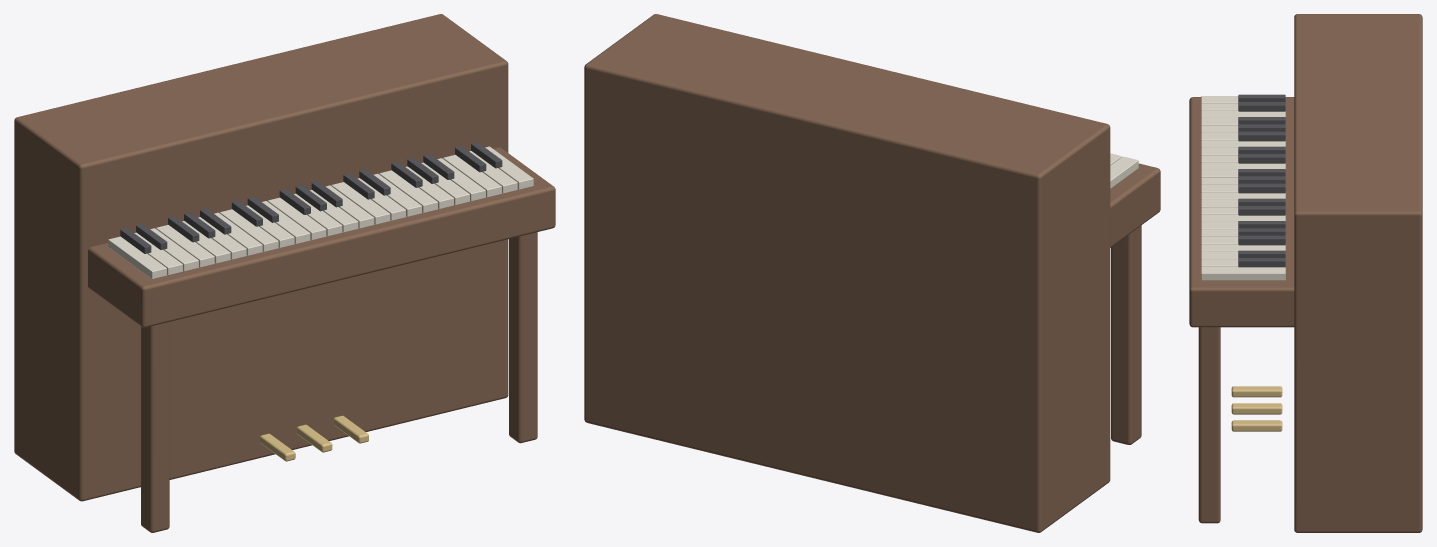
File: paranormal-investigation-house-piano-c8f7b5c5__26738.glb
3 views of the same model, side by side, from view 1: azimuth 30°, elevation 25°; view 2: azimuth 150°, elevation 25°; view 3: azimuth 270°, elevation 25° (orthographic). The views are drawn at different scales.
Visible parts, largest first — view 1: piano; view 2: piano; view 3: piano.
Part boxes in pixels (x1,y1,x2,y2): piano: (14, 14, 555, 532); piano: (584, 14, 1160, 532); piano: (1189, 14, 1422, 532).
Size of the model in its own units: 1.4 by 1.05 by 0.69.
